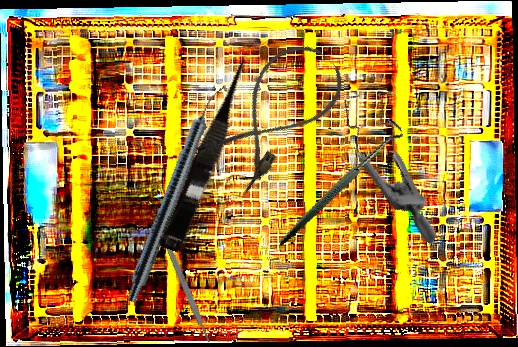Cannula: (191, 30, 355, 198)
Handpiece: (122, 79, 228, 307)
Hook Surgical: (254, 115, 424, 247)
Micro Scissor: (158, 50, 262, 255)
Scalpel Handle: (159, 231, 212, 344)
Speculum: (304, 73, 489, 245)
